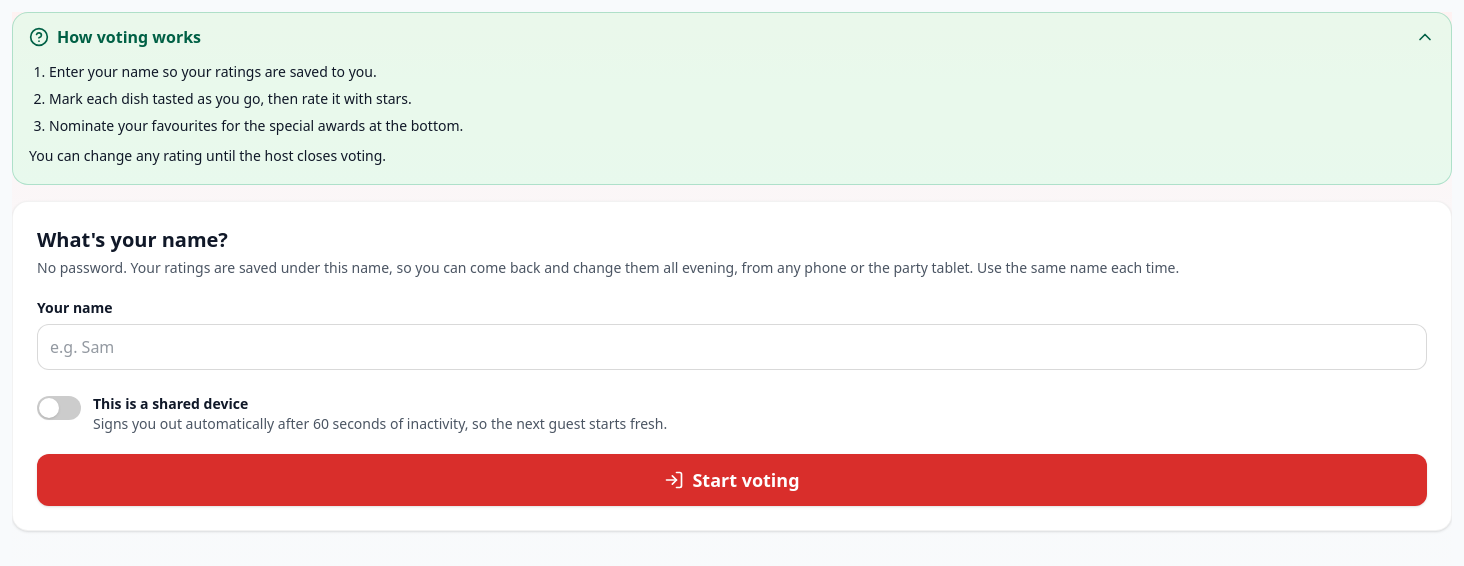
Test: VotePage › says so when the browser drops the session cookie, instead of asking again
Step 1. Type "guest 1" into the field labelled "Your name" → (732, 347), box x1=37 y1=324 x2=1427 y2=370
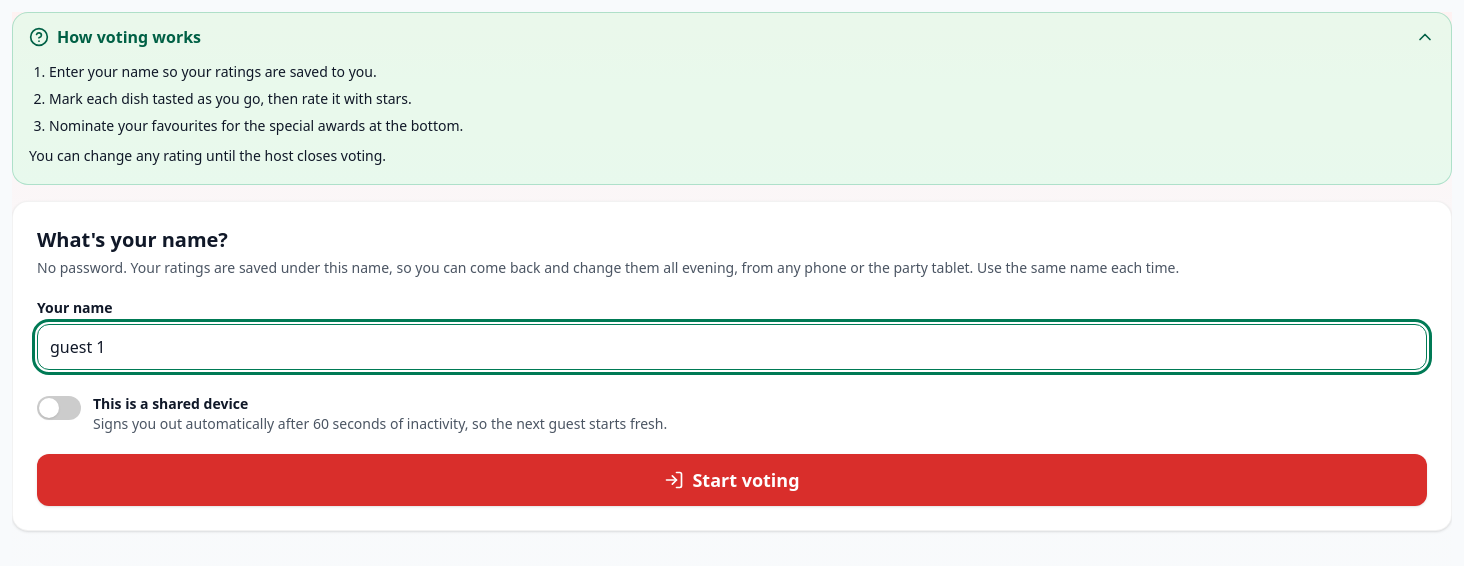
Step 2. Click the button "Start voting" → (732, 480), box x1=37 y1=454 x2=1427 y2=506
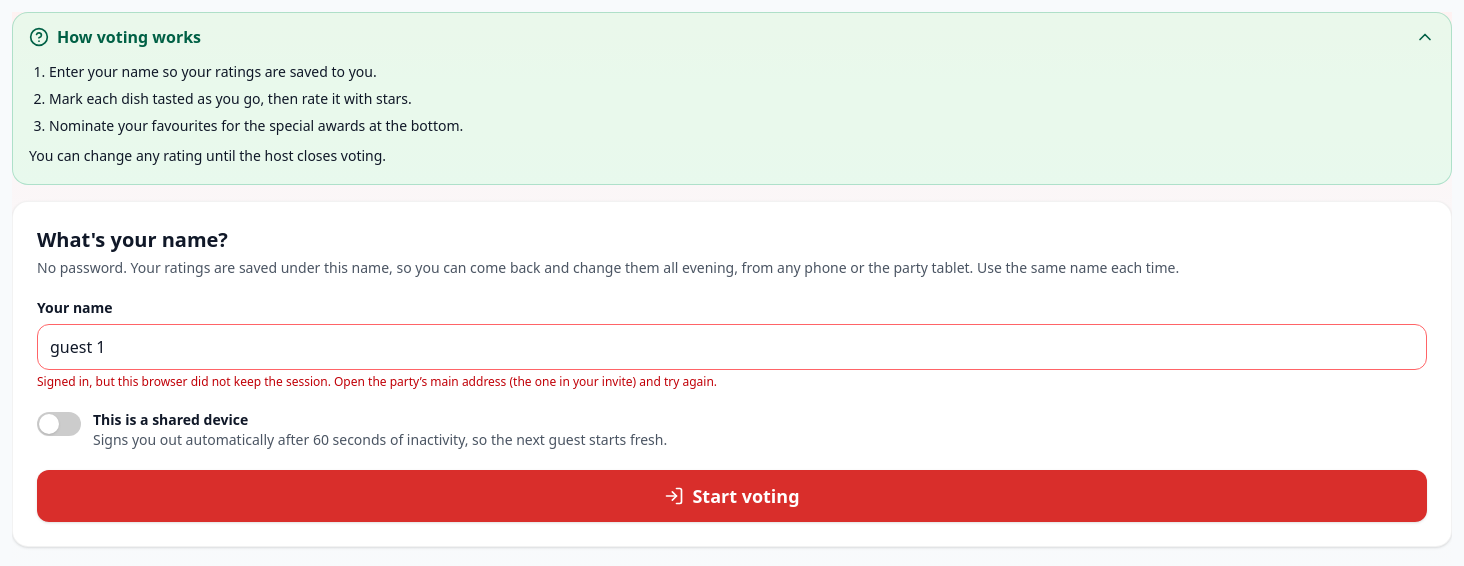
expect the text "did not keep the session" is shown: met, box x1=37 y1=373 x2=717 y2=390
